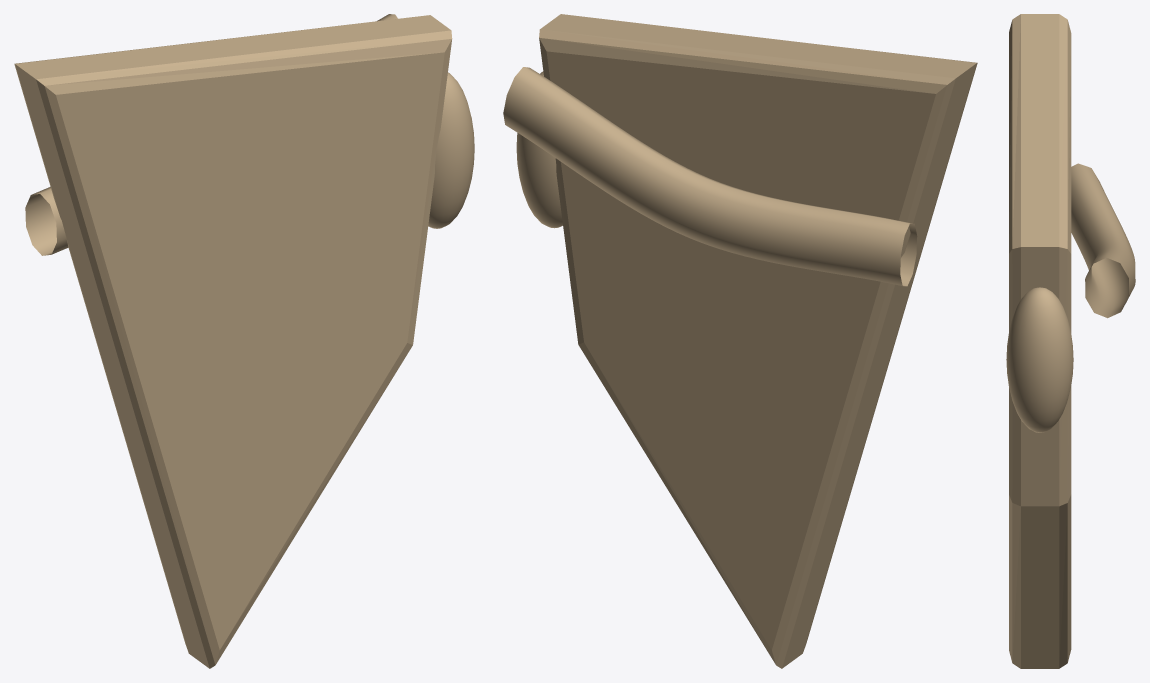
File: left_scapula.glb
3 renders of one model, left to right at view 1: azimuth 30°, elevation 25°; view 2: azimuth 150°, elevation 25°; view 3: azimuth 270°, elevation 25°, orthographic. The views are drawn at different scales.
Parts seen in each view (by area): view 1: left_scapula:blade, left_scapula:glenoid, left_scapula:spine; view 2: left_scapula:blade, left_scapula:spine, left_scapula:glenoid; view 3: left_scapula:blade, left_scapula:glenoid, left_scapula:spine.
Boxes of the visible parts, left/top/right/bottom form: left_scapula:blade: left=14, top=15, right=452, bottom=668; left_scapula:glenoid: left=428, top=72, right=474, bottom=228; left_scapula:spine: left=25, top=14, right=397, bottom=255; left_scapula:blade: left=539, top=14, right=977, bottom=668; left_scapula:spine: left=503, top=67, right=917, bottom=286; left_scapula:glenoid: left=516, top=71, right=562, bottom=228; left_scapula:blade: left=1009, top=14, right=1071, bottom=668; left_scapula:glenoid: left=1006, top=287, right=1073, bottom=432; left_scapula:spine: left=1071, top=163, right=1135, bottom=318.
Bounding box in the file's own units: 0.558 × 0.7584 × 0.1536.
